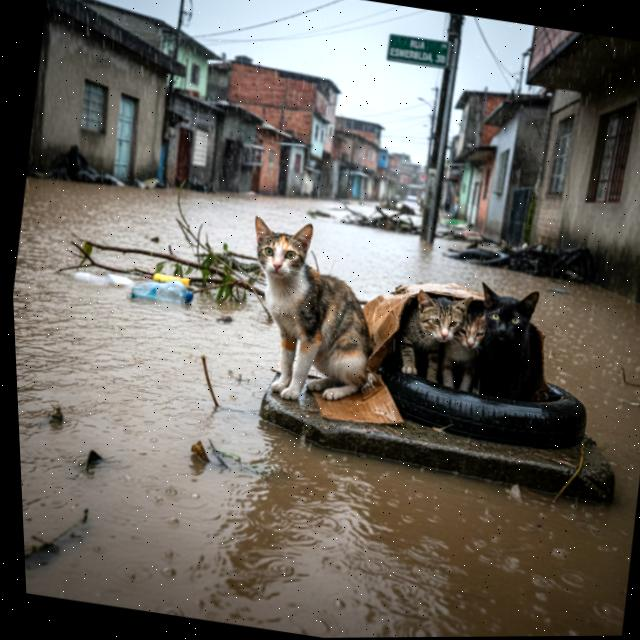cat: (212, 209, 399, 424), (454, 275, 565, 402), (385, 279, 478, 397), (440, 294, 504, 388)
